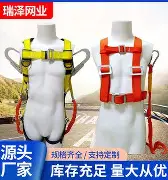safety belt: (12, 39, 83, 147), (98, 38, 153, 108)
